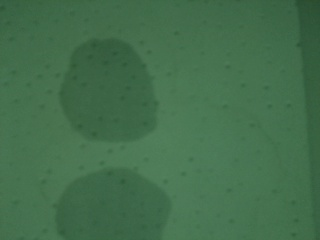Water_detected: (76, 49, 139, 128), (79, 179, 158, 240)
